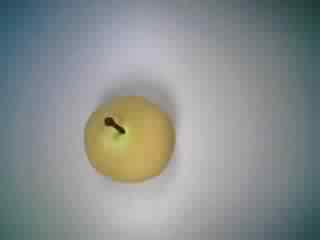pear: (70, 84, 188, 192)
